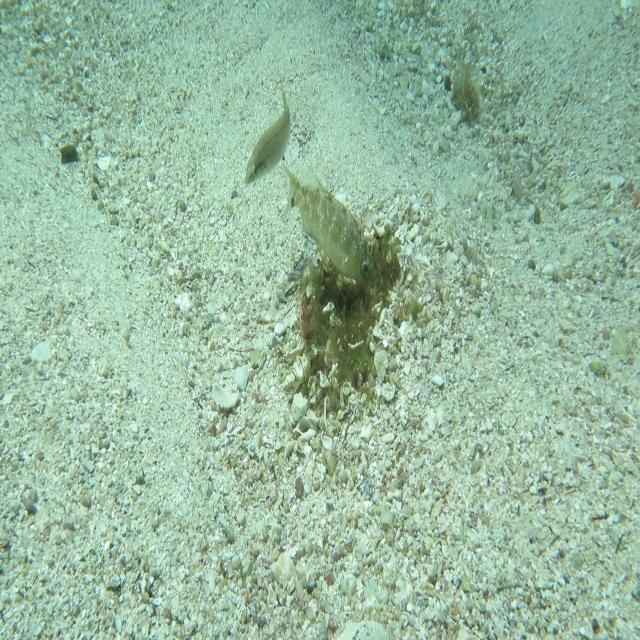NIP_CORE: (280, 160, 378, 290)
female: (240, 84, 292, 187)
nest: (292, 206, 424, 426)
vegetation: (448, 56, 483, 128), (59, 138, 80, 166)
